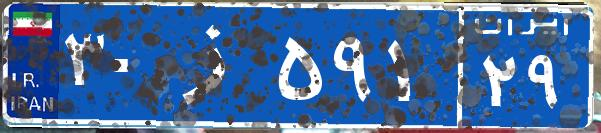0: (110, 28, 158, 105)
1: (385, 28, 445, 110)
2: (475, 38, 525, 113)
3: (57, 26, 110, 107)
5: (273, 28, 330, 110)
9: (330, 28, 385, 110), (525, 38, 570, 115)
ز: (158, 15, 273, 115)
